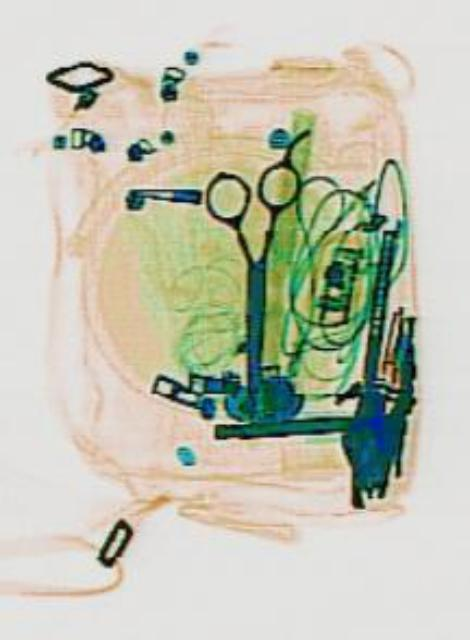Scissors: (200, 162, 296, 386)
